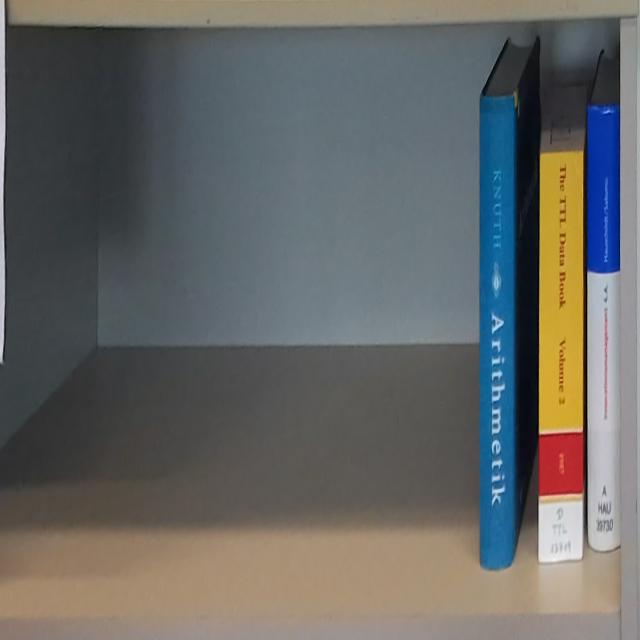Book Spine: (538, 150, 585, 562), (479, 93, 515, 570), (587, 103, 621, 553)
